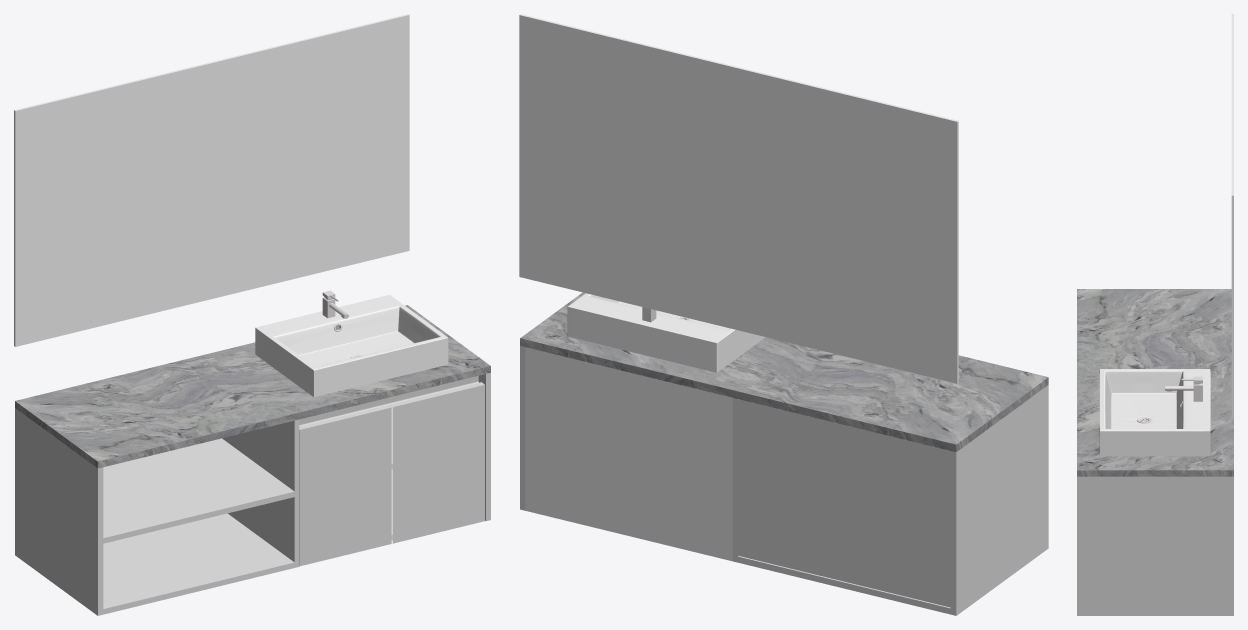
File: ASTA-final.glb
3 renders of one model, left to right at view 1: azimuth 30°, elevation 25°; view 2: azimuth 150°, elevation 25°; view 3: azimuth 270°, elevation 25°, orthographic. The views are drawn at different scales.
Parts seen in each view (by area): view 1: ASTA; view 2: ASTA; view 3: ASTA.
Part boxes in pixels (x1,y1,x2,y2): ASTA: [14, 14, 490, 615]; ASTA: [519, 14, 1048, 615]; ASTA: [1077, 14, 1233, 615].
Size of the model in its own units: 1.2 by 1.3 by 0.4388.
Materials: 7 (2 with a texture image).
